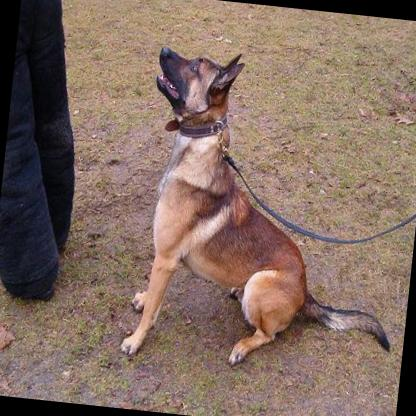malinois: (117, 38, 416, 383)
